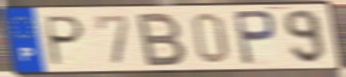0: (190, 11, 232, 66)
7: (91, 13, 131, 66)
9: (282, 8, 328, 66)
B: (136, 11, 189, 69)
P: (231, 9, 279, 67), (44, 14, 88, 68)
